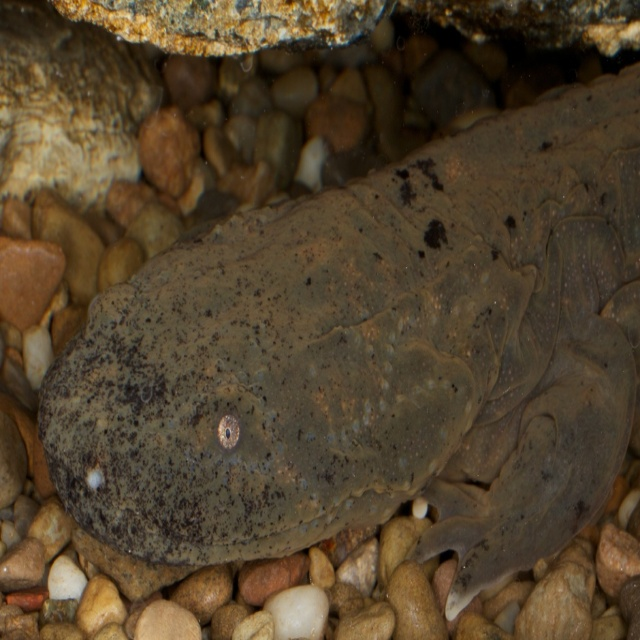Fish: (31, 59, 638, 633)
